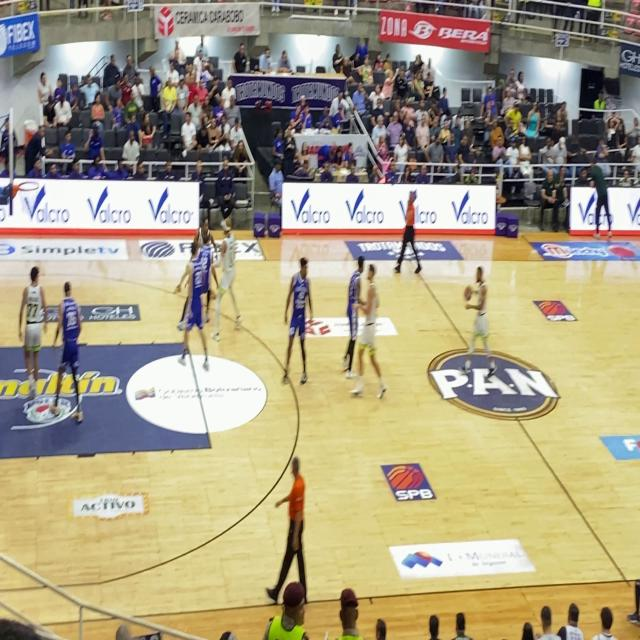Ball: (456, 278, 476, 306)
referee: (277, 442, 310, 574), (402, 171, 426, 277)
team1: (12, 240, 48, 401), (460, 264, 502, 397), (360, 255, 386, 377), (222, 215, 240, 342)
team2: (51, 278, 91, 430), (280, 250, 323, 386), (181, 227, 208, 348), (344, 251, 368, 378)
ubasket: (18, 180, 40, 206)
